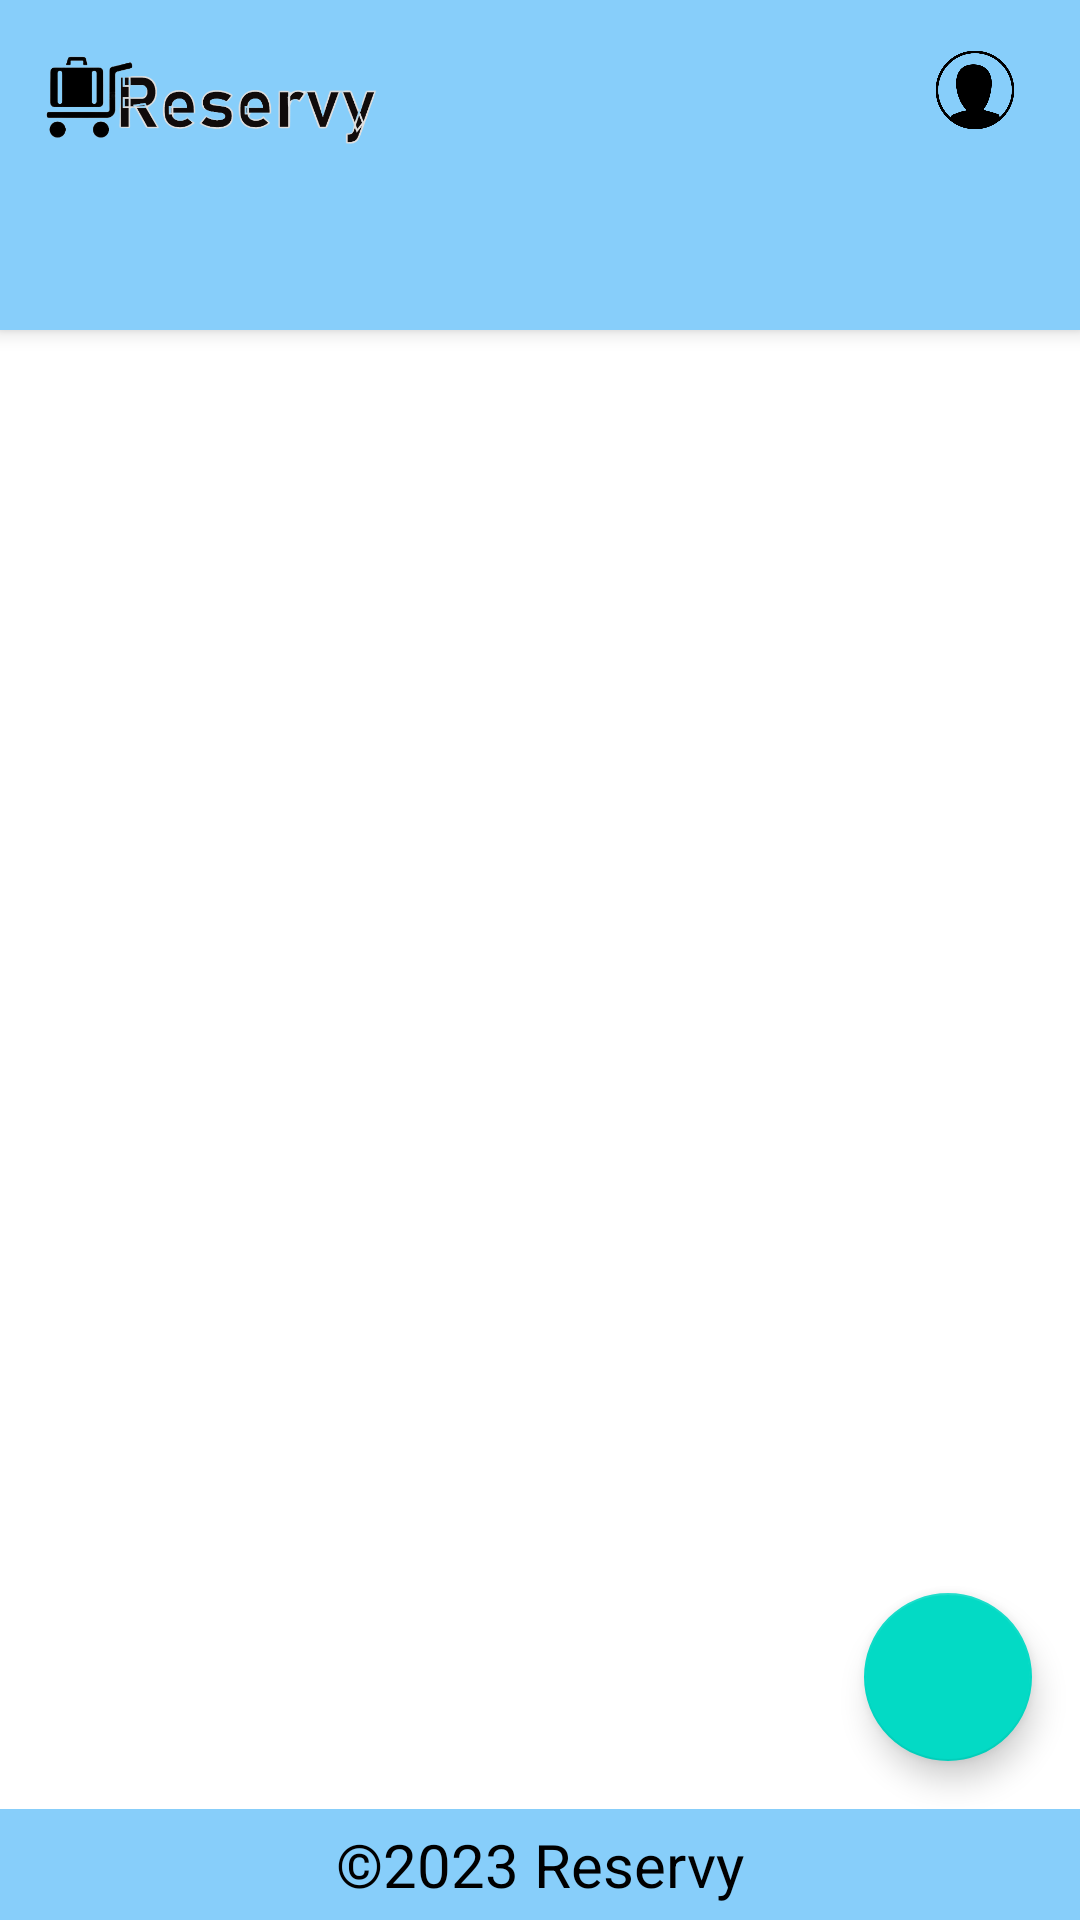

Named icons in this screenshot (1080w x 1920h) and their bounding boxes, (x1, y1, x2, y2):
person: (936, 51, 1014, 129)
